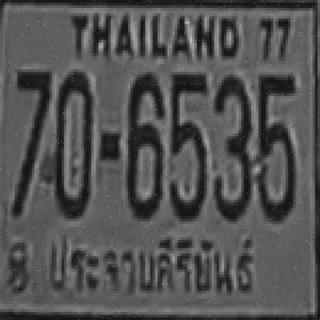N00: (256, 120, 293, 219), (167, 119, 204, 218)
N05: (257, 72, 294, 155)
N07: (15, 68, 49, 148)
P50: (39, 232, 261, 298)
